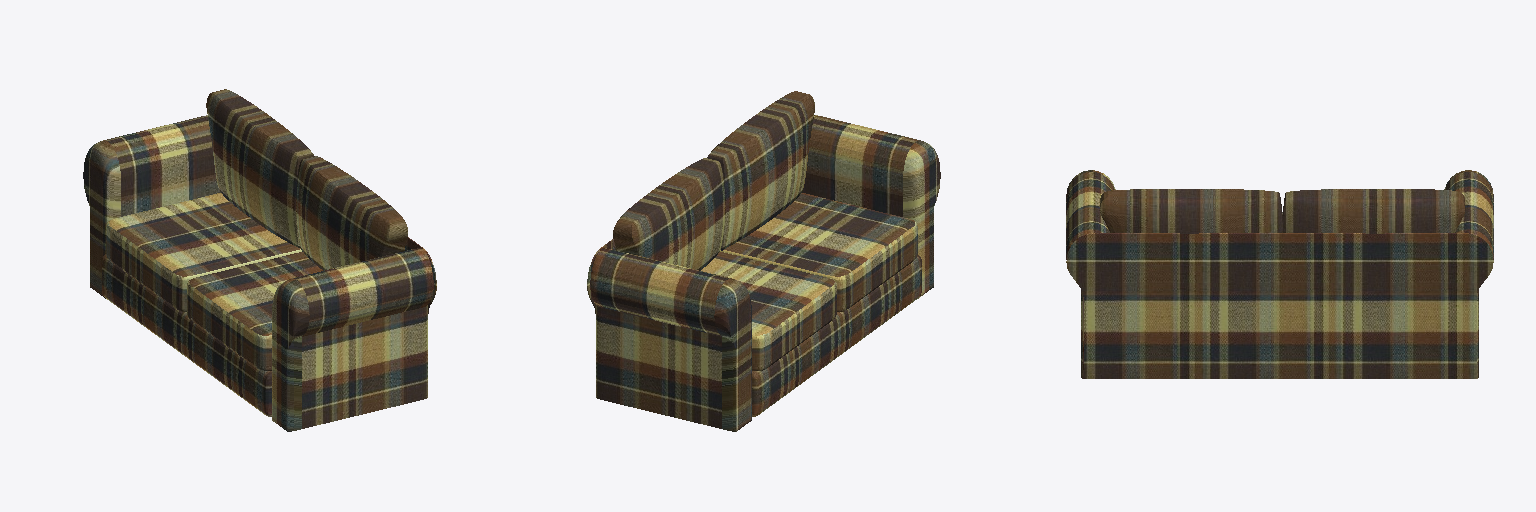
3 views of the same model, side by side, from view 1: azimuth 30°, elevation 25°; view 2: azimuth 150°, elevation 25°; view 3: azimuth 270°, elevation 25° (orthographic).
Visible parts, largest first — view 1: Object_mufiber03.jpg; view 2: Object_mufiber03.jpg; view 3: Object_mufiber03.jpg.
Part boxes in pixels (left/top/right/bottom): Object_mufiber03.jpg: left=83, top=89, right=436, bottom=431; Object_mufiber03.jpg: left=587, top=91, right=940, bottom=431; Object_mufiber03.jpg: left=1066, top=170, right=1493, bottom=378.
Bounding box in the file's own units: 1 × 1.13 × 2.5.
Materials: 2 (1 with a texture image).